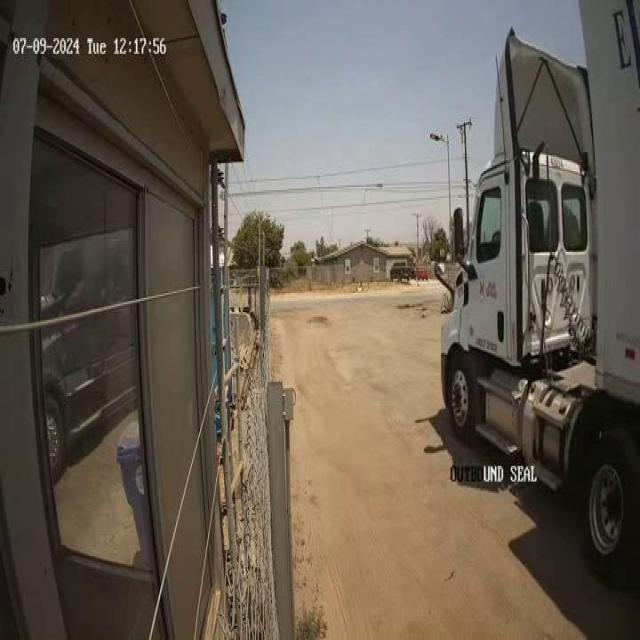TRUCK_CONTAINER: (436, 2, 639, 583)
